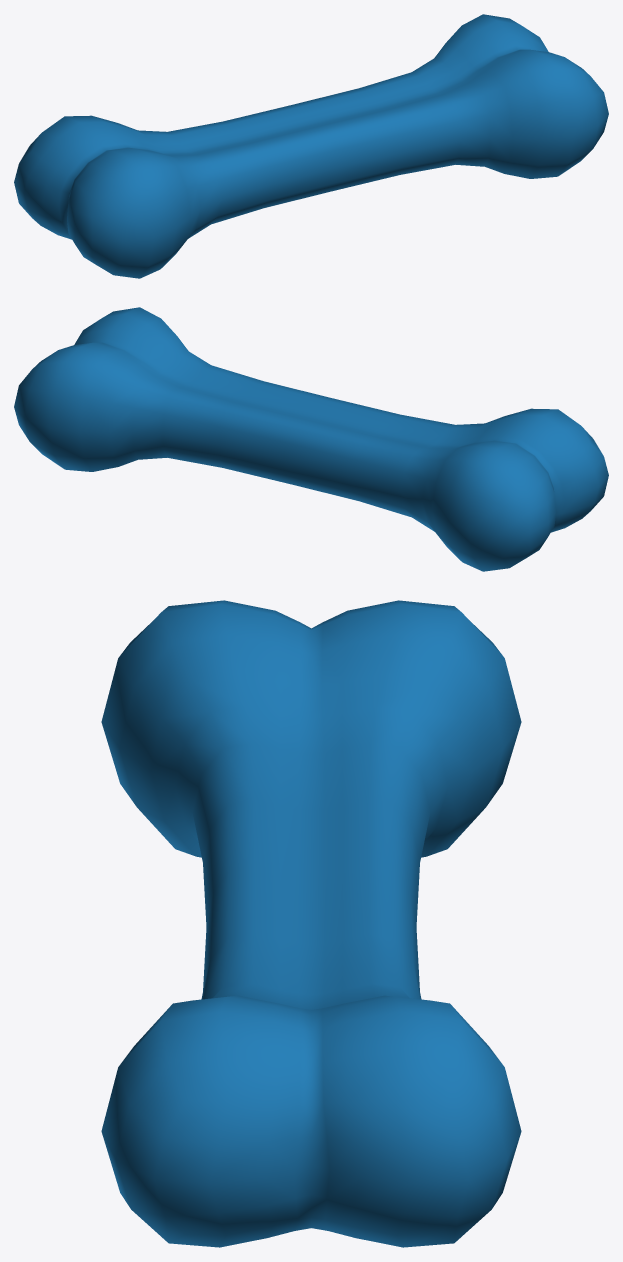
Rendered from ToyBone.fbx.
3 renders of one model, top to bottom at view 1: azimuth 30°, elevation 25°; view 2: azimuth 150°, elevation 25°; view 3: azimuth 270°, elevation 25°, orthographic. The views are drawn at different scales.
Parts seen in each view (by area): view 1: ToyBone; view 2: ToyBone; view 3: ToyBone.
Boxes of the visible parts, x1,y1,x2,y2 form: ToyBone: [14, 14, 608, 278]; ToyBone: [14, 307, 608, 571]; ToyBone: [101, 600, 521, 1247].
Bounding box in the file's own units: 21.81 × 4.63 × 7.56.
